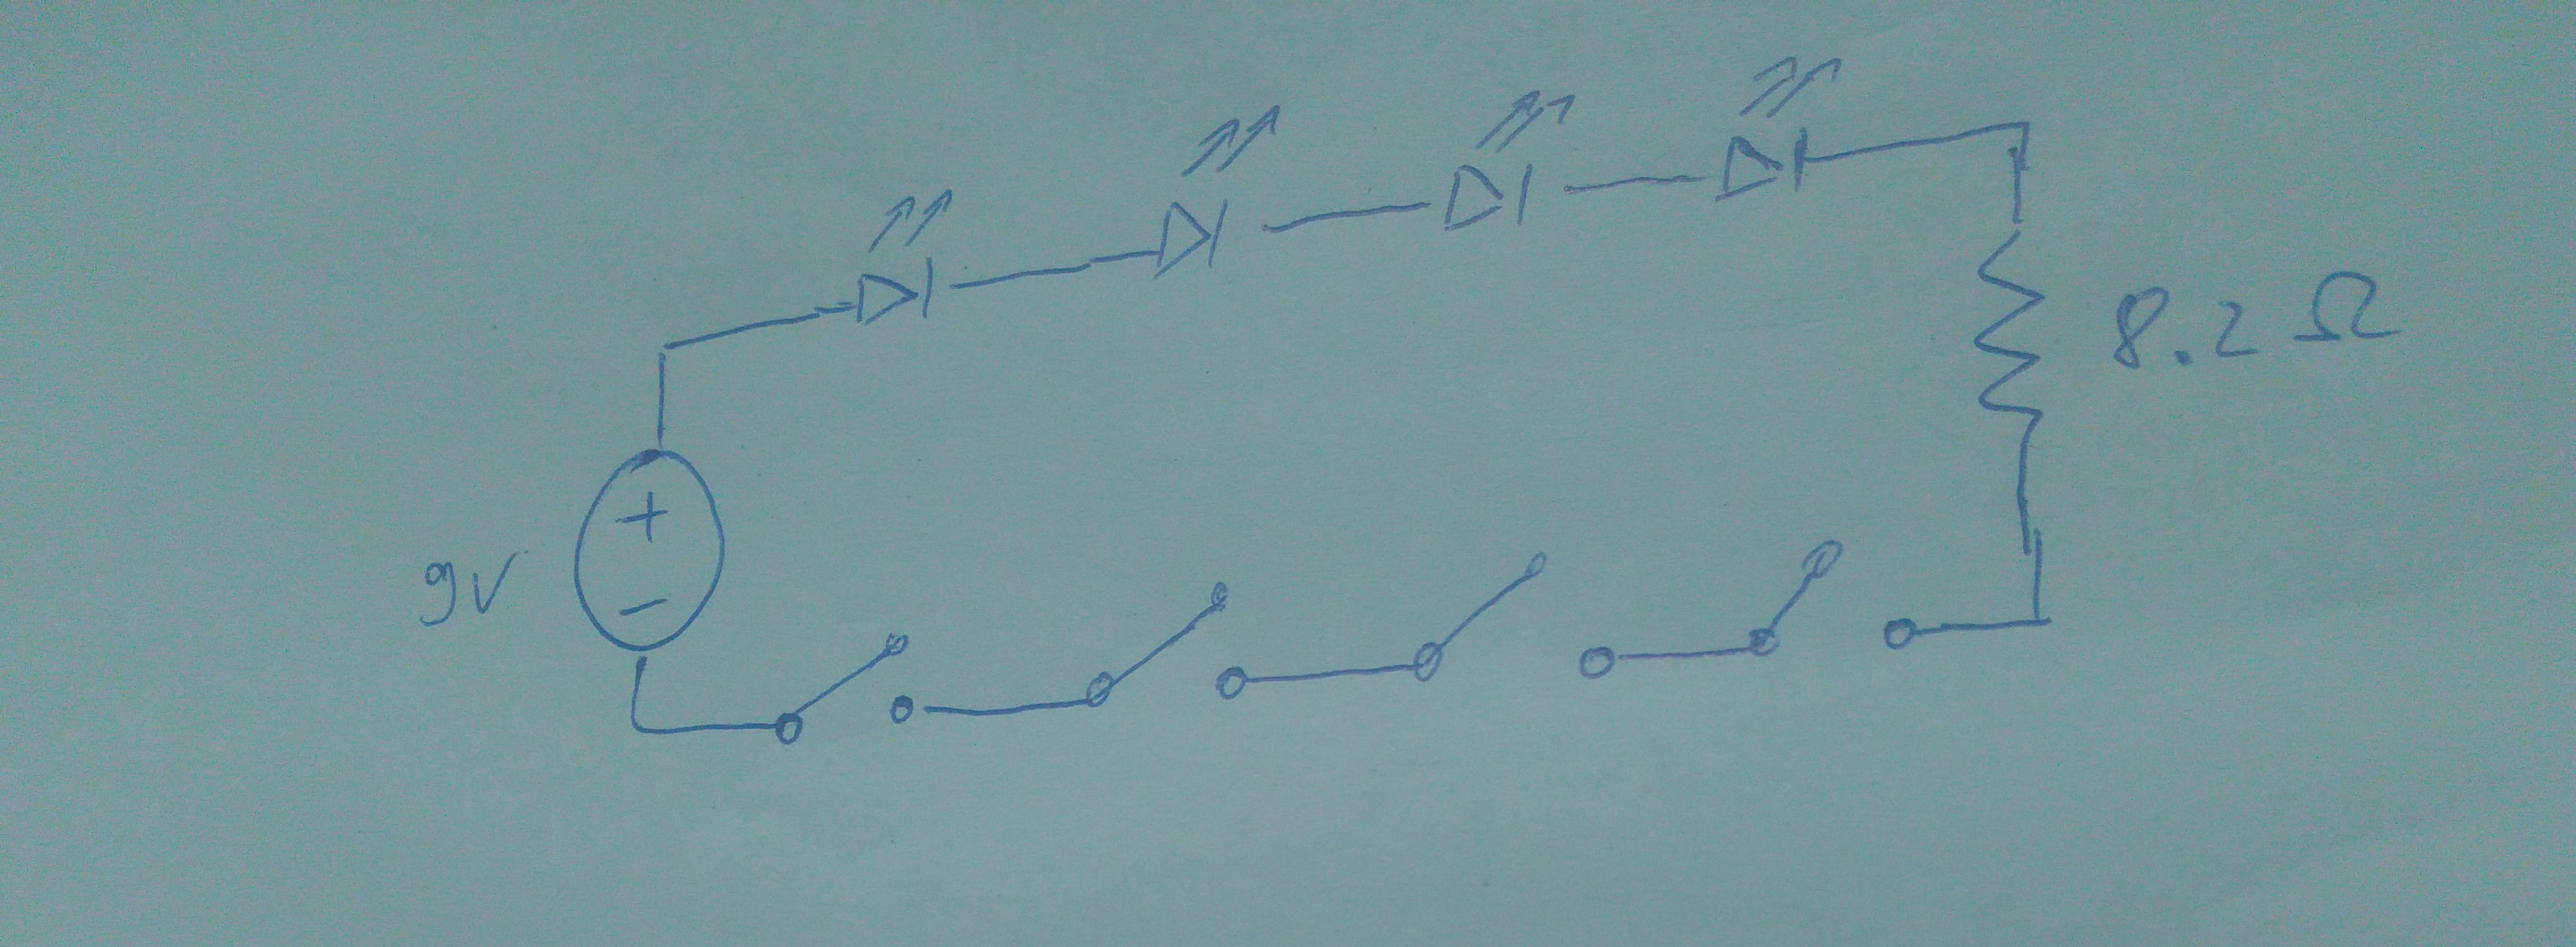diode.light_emitting: (1107, 89, 1322, 307), (795, 171, 1004, 363), (1682, 30, 1870, 240), (1413, 72, 1597, 259)
junction: (1996, 591, 2078, 652), (632, 320, 698, 382), (1991, 102, 2045, 166), (614, 706, 672, 752)
resistor: (1947, 199, 2083, 476)
switch: (1391, 528, 1630, 707), (1066, 560, 1293, 743), (1722, 512, 1945, 693), (766, 615, 961, 758)
text: (2093, 246, 2431, 382), (386, 538, 536, 645)
voltage.dc: (547, 445, 752, 665)
